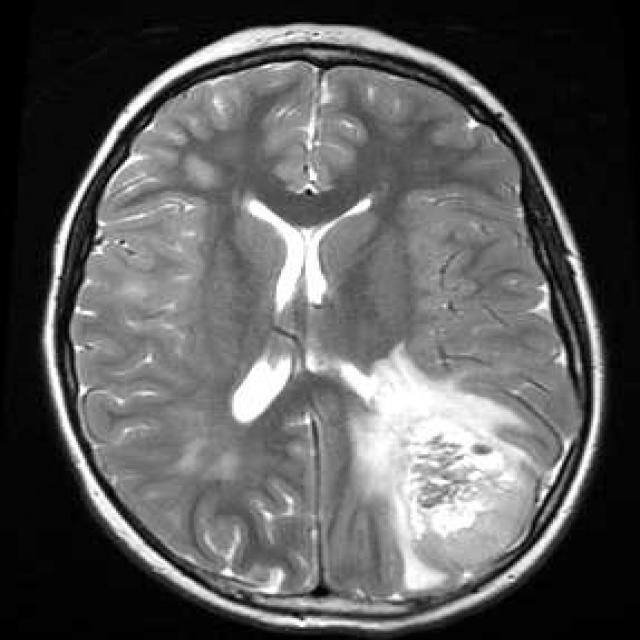Tumor: (392, 410, 523, 558)
